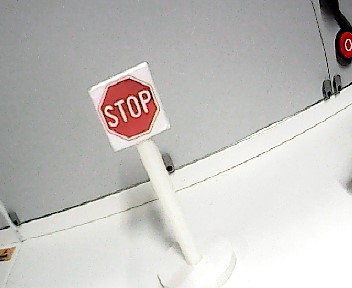stop-bord: (99, 75, 160, 140)
